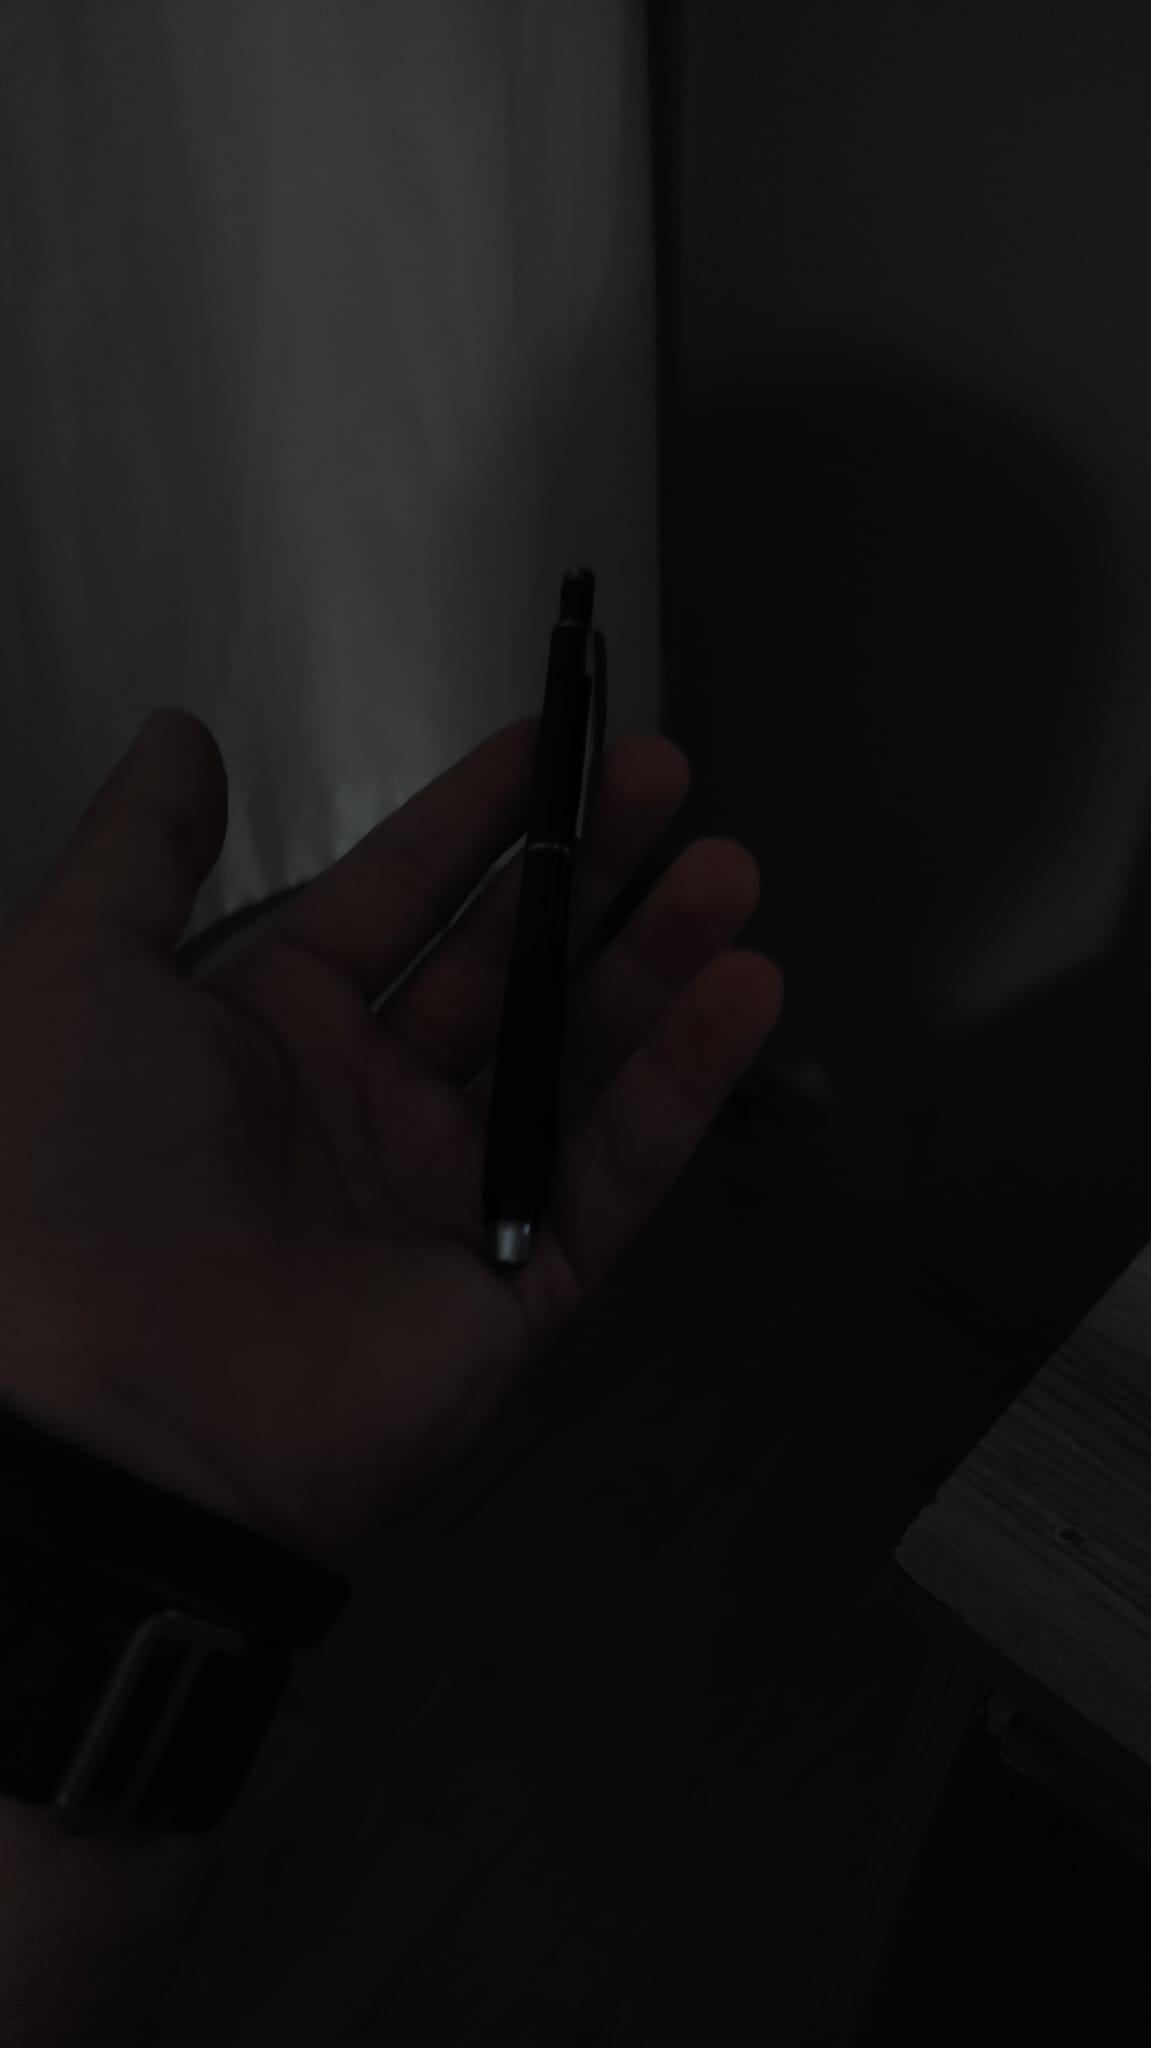kalem: (478, 553, 608, 1281)
